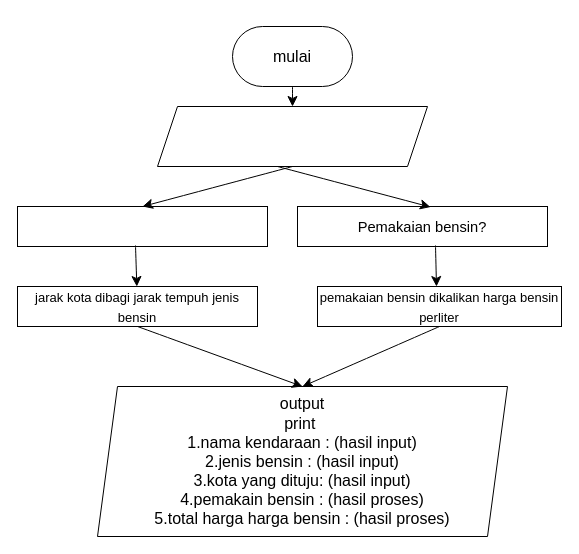
The diagram is 579 pixels wide and 554 high, and some of its shapes have lost their labels. The shapes that lost their labels are listed below. From the top down, each one's box as (x1, y1, x2, y2) in pixels, then its label:
(156, 106, 428, 166): 1.input nama kendaraan 2.input jenis bensin 3. input kota yang dituju
(16, 206, 268, 246): Total harga dari bensin?
